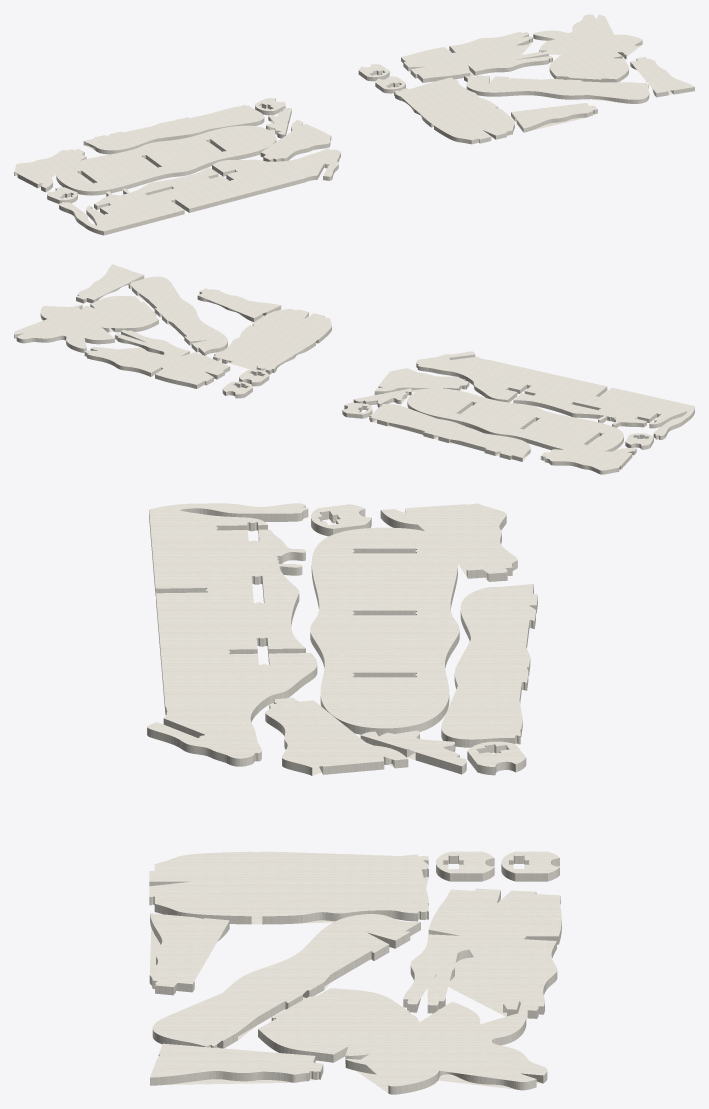
File: Wood-Cow.fbx
3 renders of one model, top to bottom at view 1: azimuth 30°, elevation 25°; view 2: azimuth 150°, elevation 25°; view 3: azimuth 270°, elevation 25°, orthographic. The views are drawn at different scales.
Visible parts, largest first — view 1: polySurface4256, polySurface995, polySurface10609, polySurface5965, polySurface6340, polySurface9665, polySurface5542, polySurface6946, polySurface5051, polySurface3749, polySurface2208, polySurface5201 (+5 smaller); view 2: polySurface4256, polySurface995, polySurface10609, polySurface5965, polySurface9665, polySurface6340, polySurface5542, polySurface6946, polySurface2208, polySurface5051, polySurface3749, polySurface5201 (+5 smaller); view 3: polySurface4256, polySurface995, polySurface10609, polySurface5965, polySurface6340, polySurface9665, polySurface5542, polySurface6946, polySurface5051, polySurface2208, polySurface5201, polySurface3749 (+5 smaller).
Boxes of the visible parts, x1,y1,x2,y2 form: polySurface4256: (59, 149, 340, 235); polySurface995: (56, 125, 276, 195); polySurface10609: (394, 77, 514, 144); polySurface5965: (401, 32, 552, 82); polySurface6340: (464, 75, 649, 103); polySurface9665: (83, 105, 264, 154); polySurface5542: (533, 14, 642, 59); polySurface6946: (549, 49, 628, 82); polySurface5051: (260, 120, 331, 161); polySurface3749: (511, 103, 597, 132); polySurface2208: (14, 149, 86, 192); polySurface5201: (630, 57, 694, 97); polySurface4256: (416, 351, 694, 439); polySurface995: (407, 388, 623, 452); polySurface10609: (213, 308, 331, 374); polySurface5965: (84, 330, 230, 388); polySurface9665: (369, 404, 530, 461); polySurface6340: (128, 276, 227, 355); polySurface5542: (14, 304, 114, 352); polySurface6946: (81, 296, 158, 332); polySurface2208: (540, 448, 636, 474); polySurface5051: (374, 368, 469, 394); polySurface3749: (197, 288, 281, 321); polySurface5201: (76, 264, 144, 303); polySurface4256: (147, 503, 317, 766); polySurface995: (310, 527, 459, 736); polySurface10609: (149, 851, 428, 924); polySurface5965: (403, 888, 561, 1018); polySurface6340: (152, 914, 420, 1048); polySurface9665: (441, 584, 537, 747); polySurface5542: (345, 1002, 547, 1094); polySurface6946: (258, 988, 419, 1063); polySurface5051: (265, 697, 408, 775); polySurface2208: (380, 503, 517, 581); polySurface5201: (150, 1043, 323, 1085); polySurface3749: (149, 913, 229, 995).
Size of the model in its own units: 76.35 by 0.5 by 22.95.
1 material, 1 textured.
